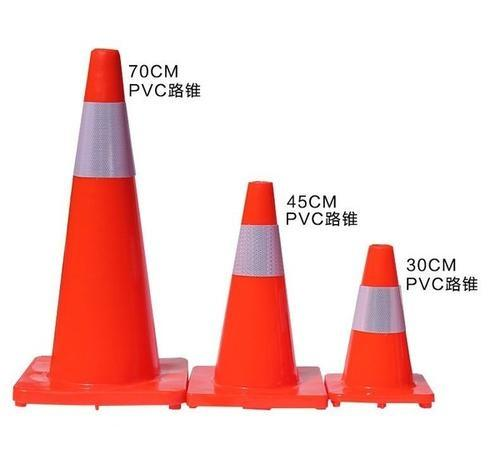cone_barrel: (32, 67, 173, 404), (208, 191, 309, 398), (333, 245, 428, 409)
